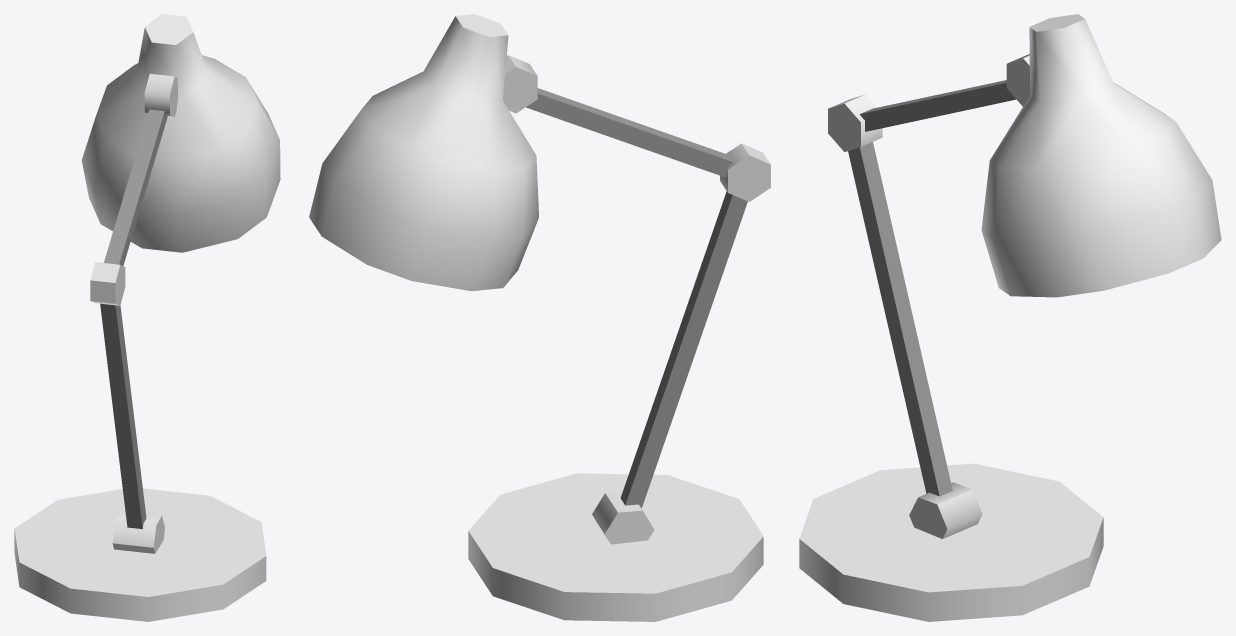
Rendered from stand_small.gltf.
3 views of the same model, side by side, from view 1: azimuth 30°, elevation 25°; view 2: azimuth 150°, elevation 25°; view 3: azimuth 270°, elevation 25° (orthographic). The views are drawn at different scales.
Visible parts, largest first — view 1: low_poly_interior.283; view 2: low_poly_interior.283; view 3: low_poly_interior.283.
Boxes of the visible parts, x1,y1,x2,y2 form: low_poly_interior.283: [14, 14, 280, 621]; low_poly_interior.283: [309, 14, 770, 621]; low_poly_interior.283: [799, 14, 1221, 621].
Size of the model in its own units: 0.1722 by 0.2664 by 0.1746.
1 material, 1 textured.
